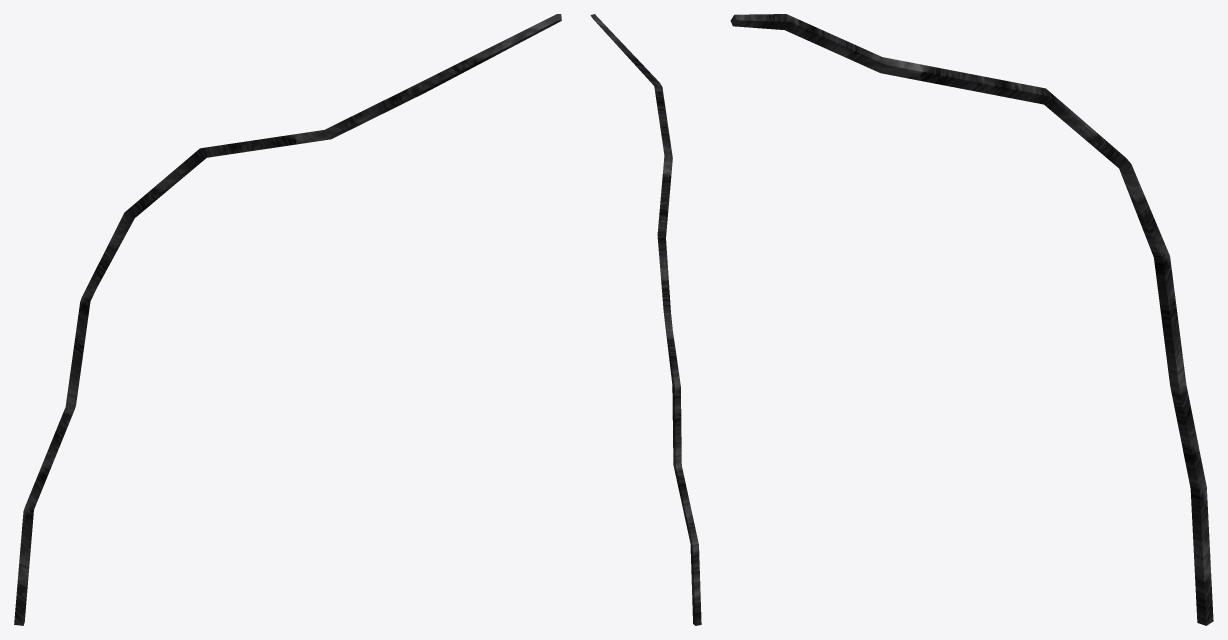
The model's file is SnowCreatureB_1.gltf.
The picture shows the model from 3 angles, left to right: view 1: azimuth 30°, elevation 25°; view 2: azimuth 150°, elevation 25°; view 3: azimuth 270°, elevation 25°; orthographic projection. The views are drawn at different scales.
Visible parts, largest first — view 1: SnowCreatureB_1; view 2: SnowCreatureB_1; view 3: SnowCreatureB_1.
Boxes of the visible parts, x1,y1,x2,y2 form: SnowCreatureB_1: (14,14,561,625); SnowCreatureB_1: (590,14,701,625); SnowCreatureB_1: (730,14,1213,625).
Bounding box in the file's own units: 11.02 × 19.8 × 10.68.
1 material, 1 textured.
